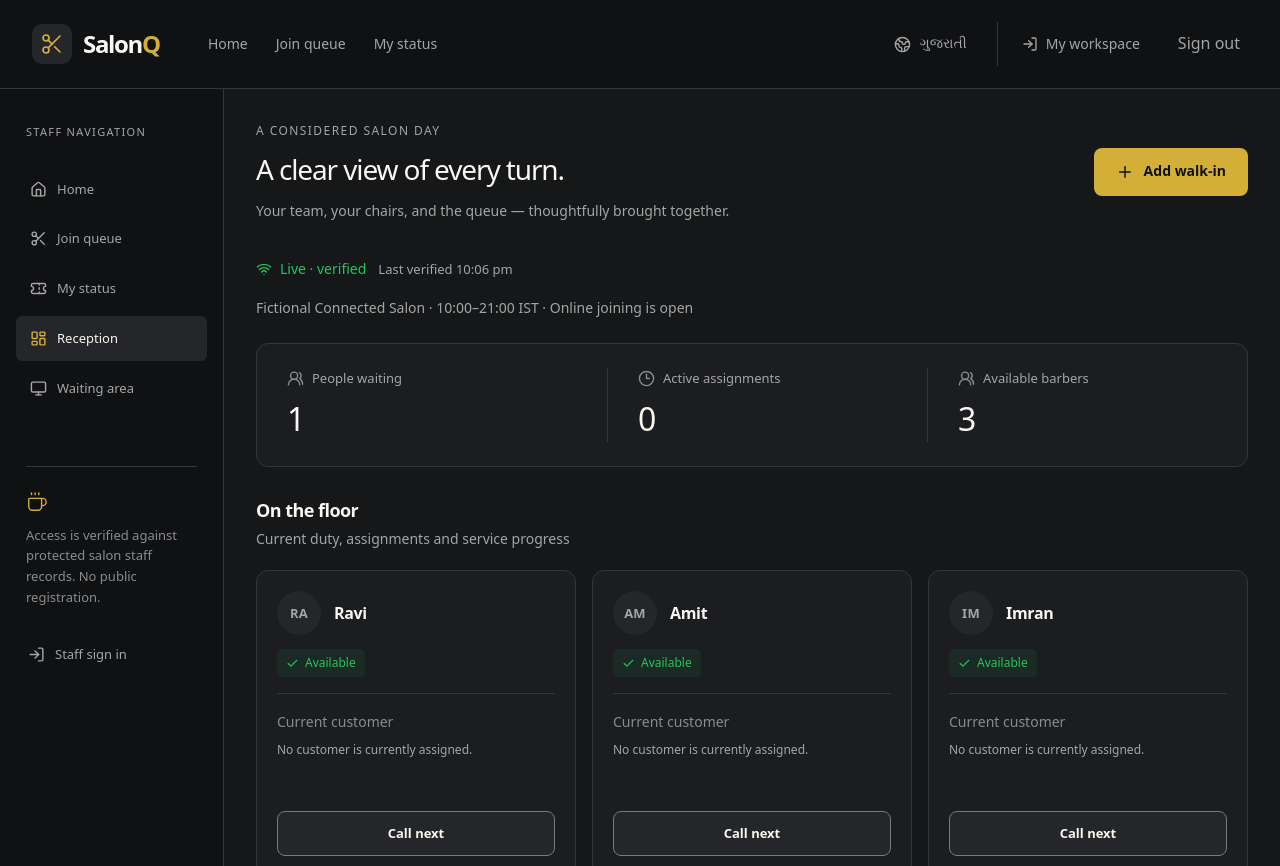
Test: staff routes and credential form › signs out through the actual session boundary and removes protected content
Click the button "Sign out" at {"x": 1209, "y": 44}, box [1170, 22, 1248, 66]
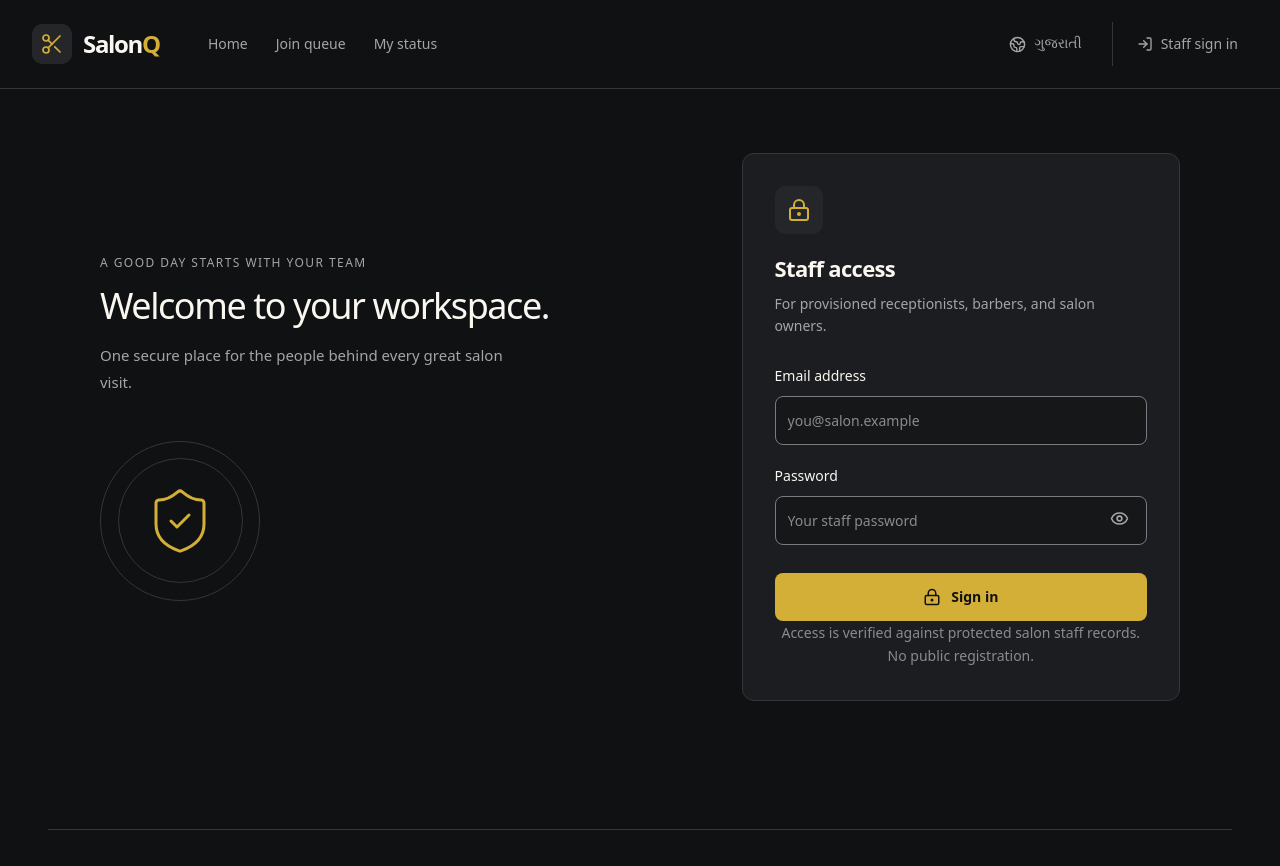
Expected: the heading "Welcome to your workspace." is shown, [100, 283, 549, 330]
